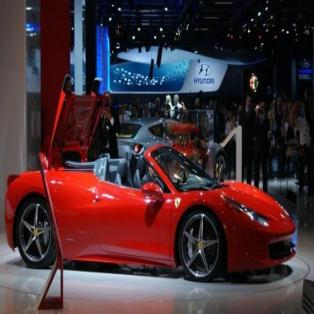Auto: (5, 72, 295, 278)
